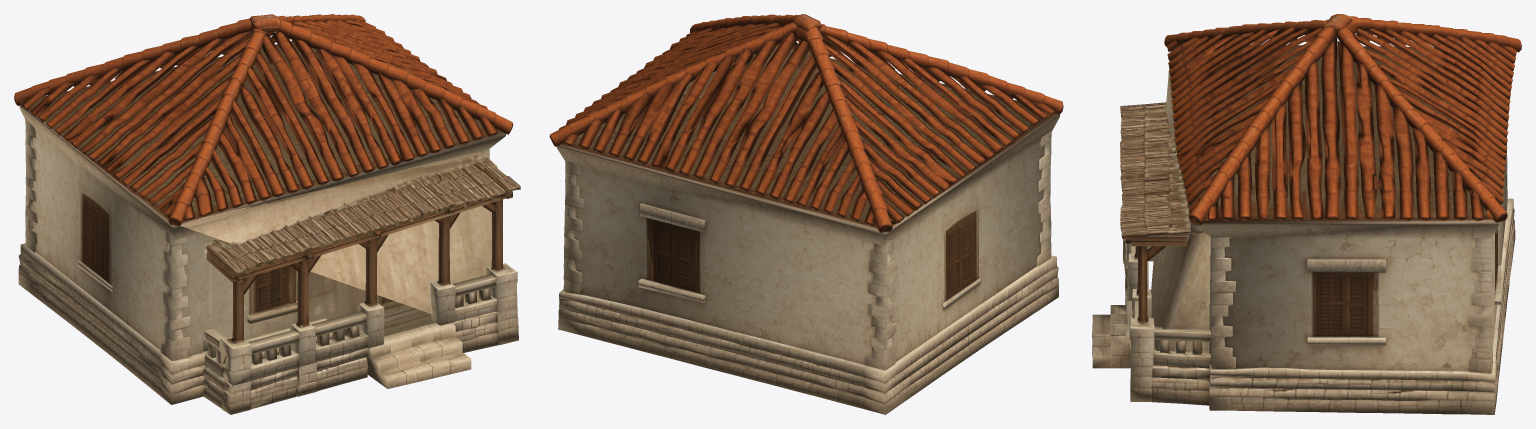
The model's file is generated-1948-01-netanya-tiled-house-original.glb.
The picture shows the model from 3 angles, left to right: view 1: azimuth 30°, elevation 25°; view 2: azimuth 150°, elevation 25°; view 3: azimuth 270°, elevation 25°; orthographic projection. The views are drawn at different scales.
Visible parts, largest first — view 1: tripo_node_90d34647-9215-414c-a06a-f4638476798c; view 2: tripo_node_90d34647-9215-414c-a06a-f4638476798c; view 3: tripo_node_90d34647-9215-414c-a06a-f4638476798c.
Boxes of the visible parts, x1,y1,x2,y2 form: tripo_node_90d34647-9215-414c-a06a-f4638476798c: (14,14,520,414); tripo_node_90d34647-9215-414c-a06a-f4638476798c: (549,14,1063,414); tripo_node_90d34647-9215-414c-a06a-f4638476798c: (1092,14,1521,414).
Bounding box in the file's own units: 0.9995 × 0.7925 × 0.9966.
Materials: 1 (1 with a texture image).
